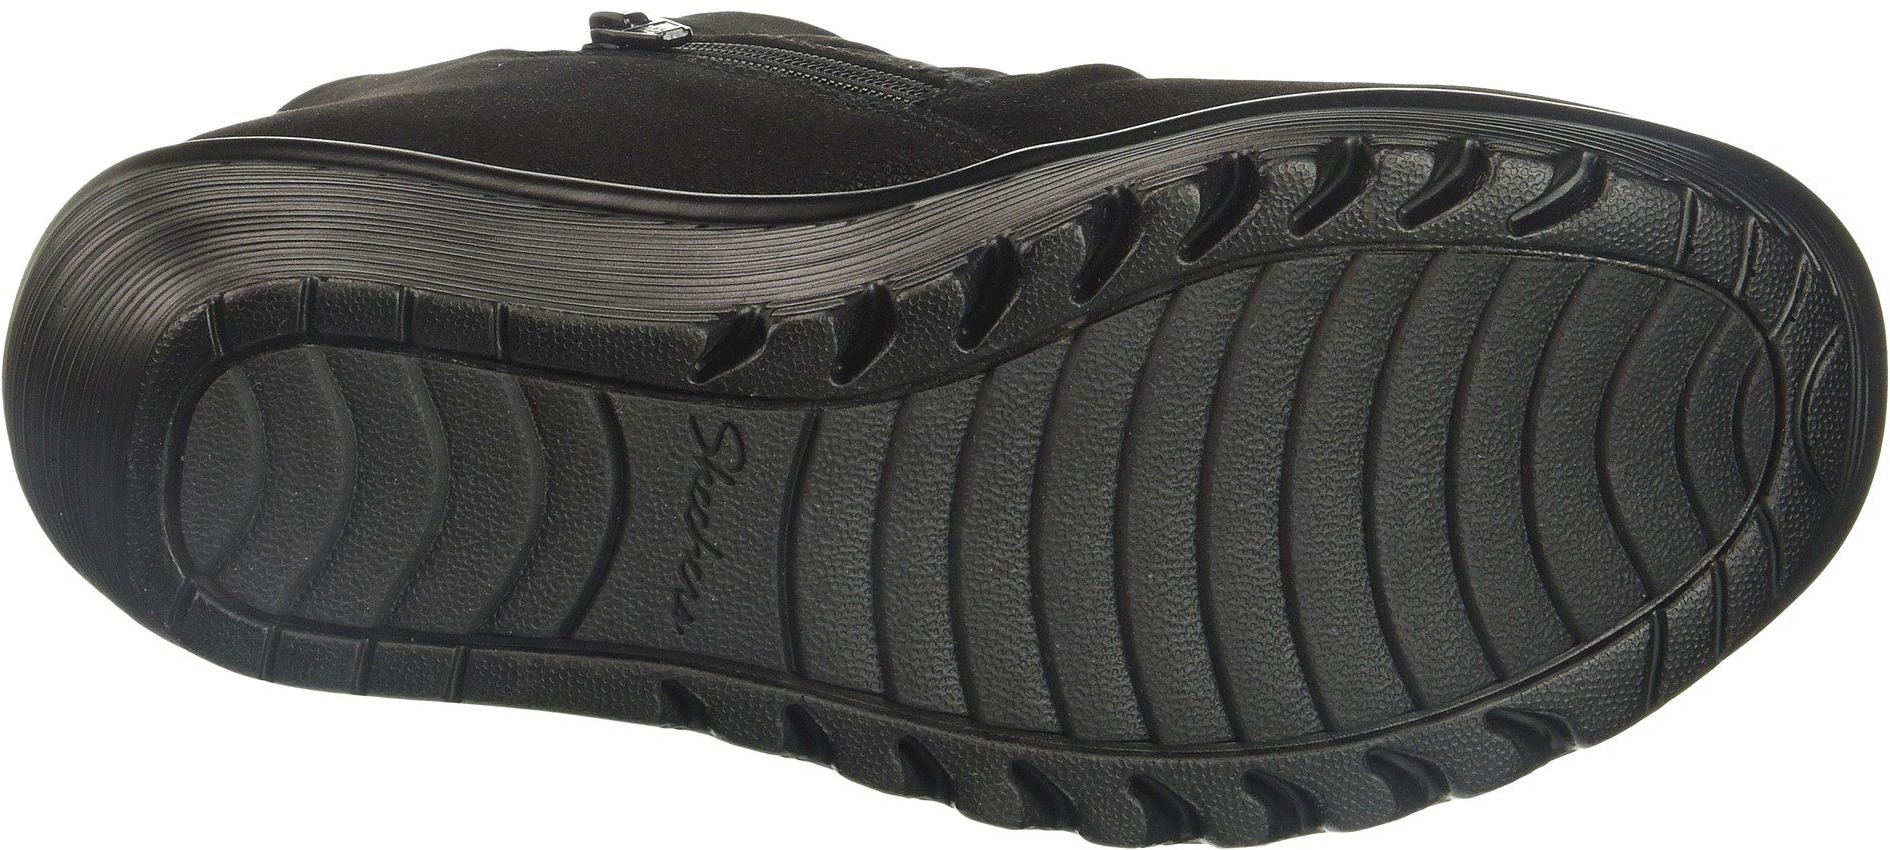quad: (1201, 271, 1631, 641), (850, 399, 1221, 717), (272, 353, 568, 631)
text: (636, 403, 782, 543), (632, 526, 755, 647)
